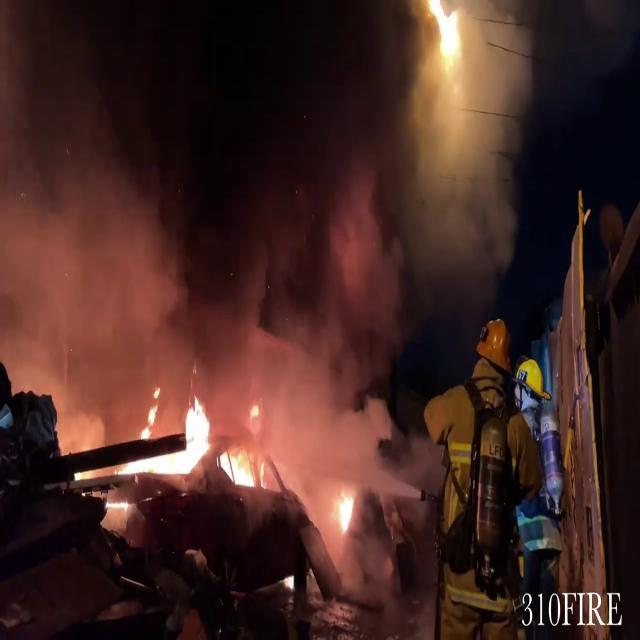Fire: (133, 386, 267, 494), (328, 480, 360, 543)
Smoke: (0, 0, 413, 411)
